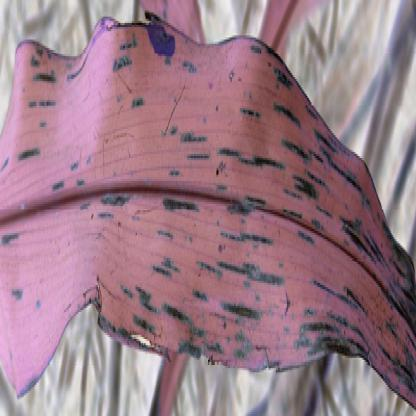Corn leaf blight: (2, 19, 416, 400)
